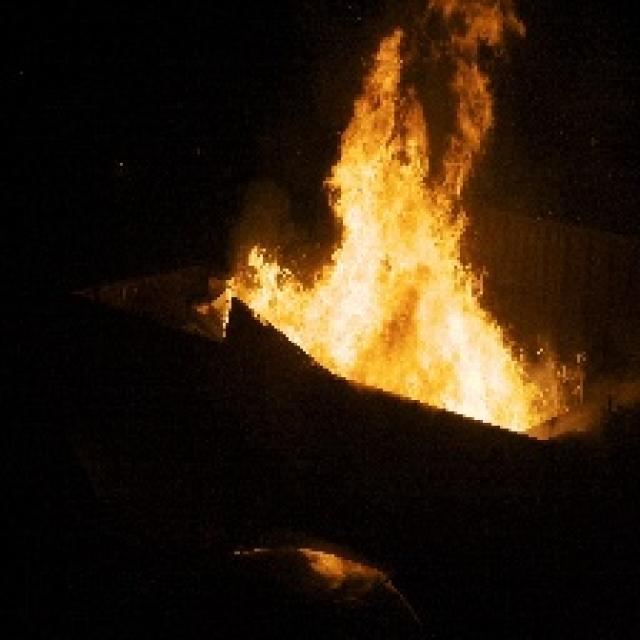Fire: (214, 2, 560, 428)
